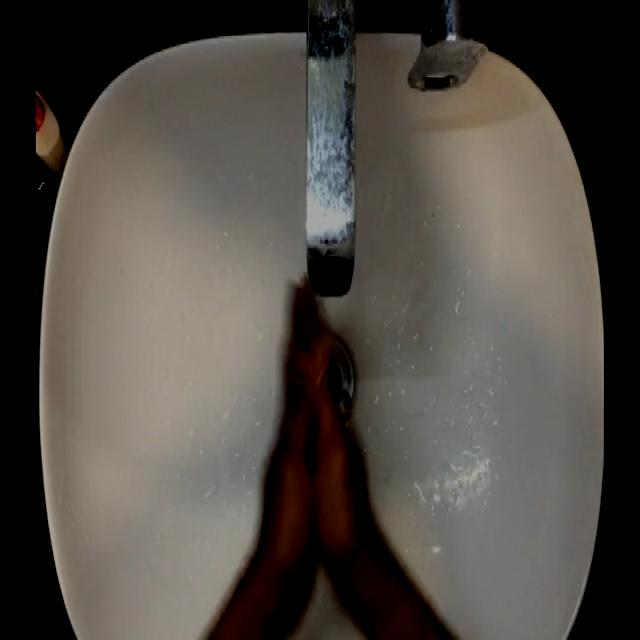step_1: (233, 258, 380, 567)
